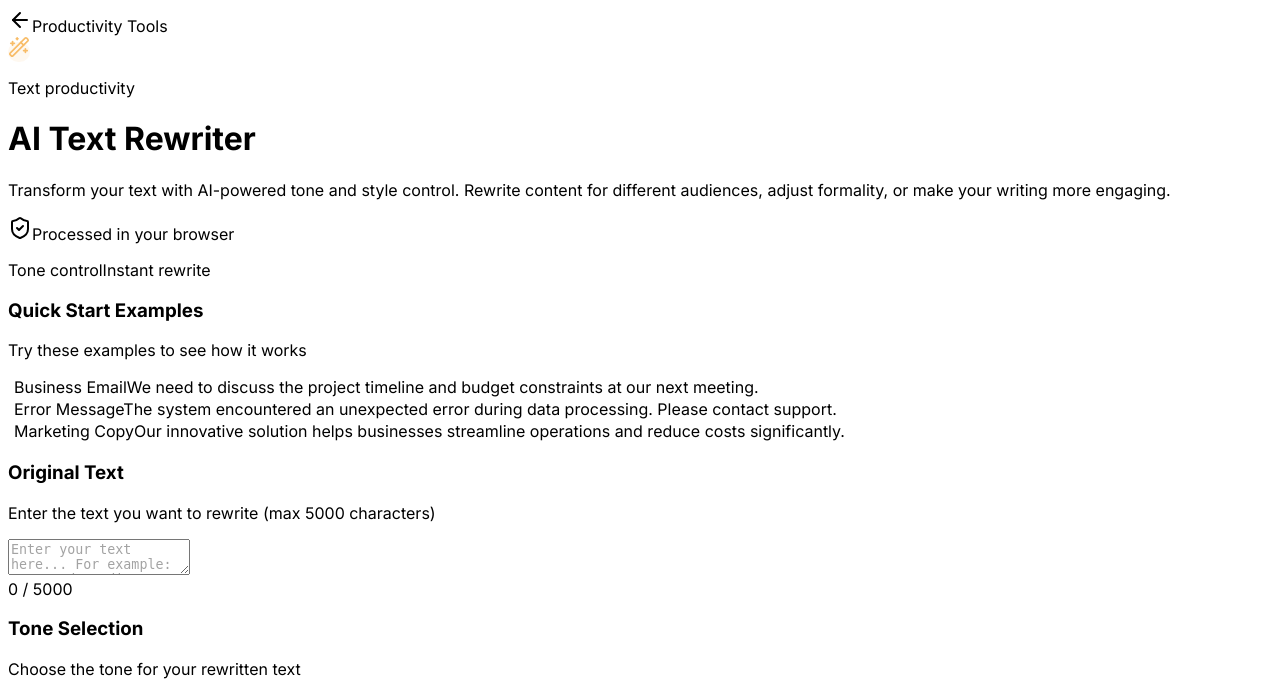
Test: AI Text Rewriter - Rewriting Tests › should display multiple variants
Replace the text in the text box with placeholder "Enter your text here" with "Test message" at (99, 557), box [8, 539, 190, 575]
(page scrolled)
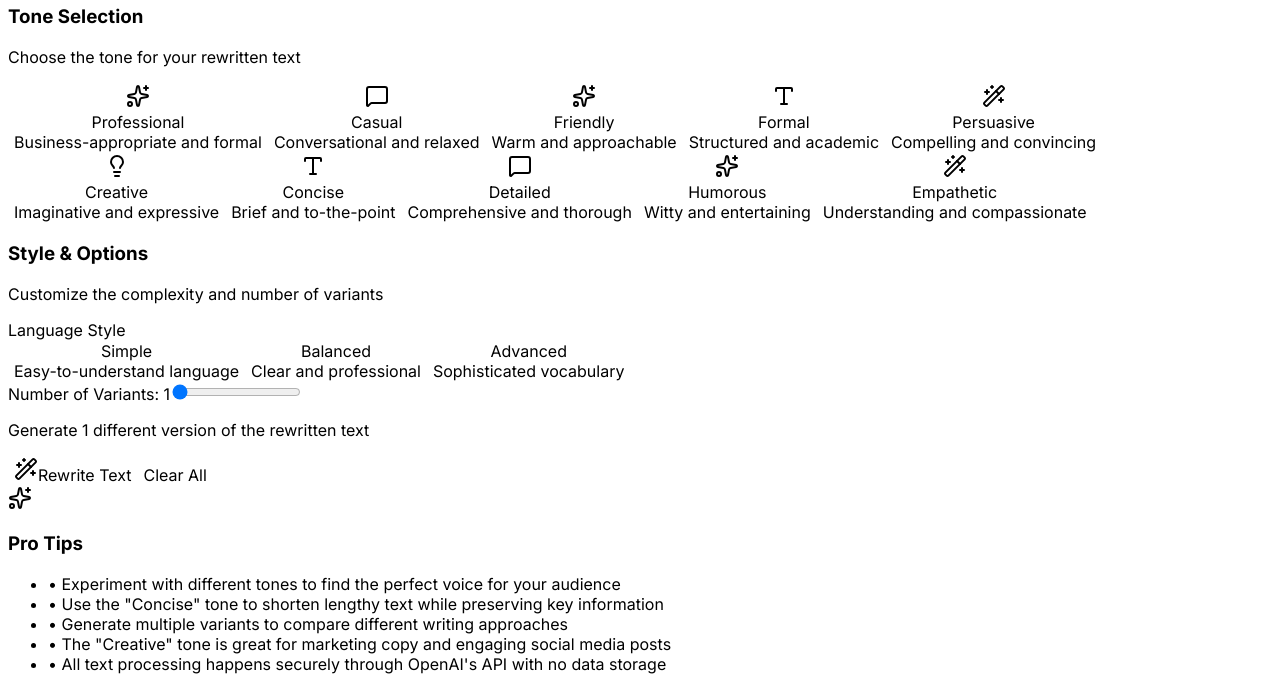
Click the button "Rewrite Text" at (73, 471), box [8, 456, 138, 486]
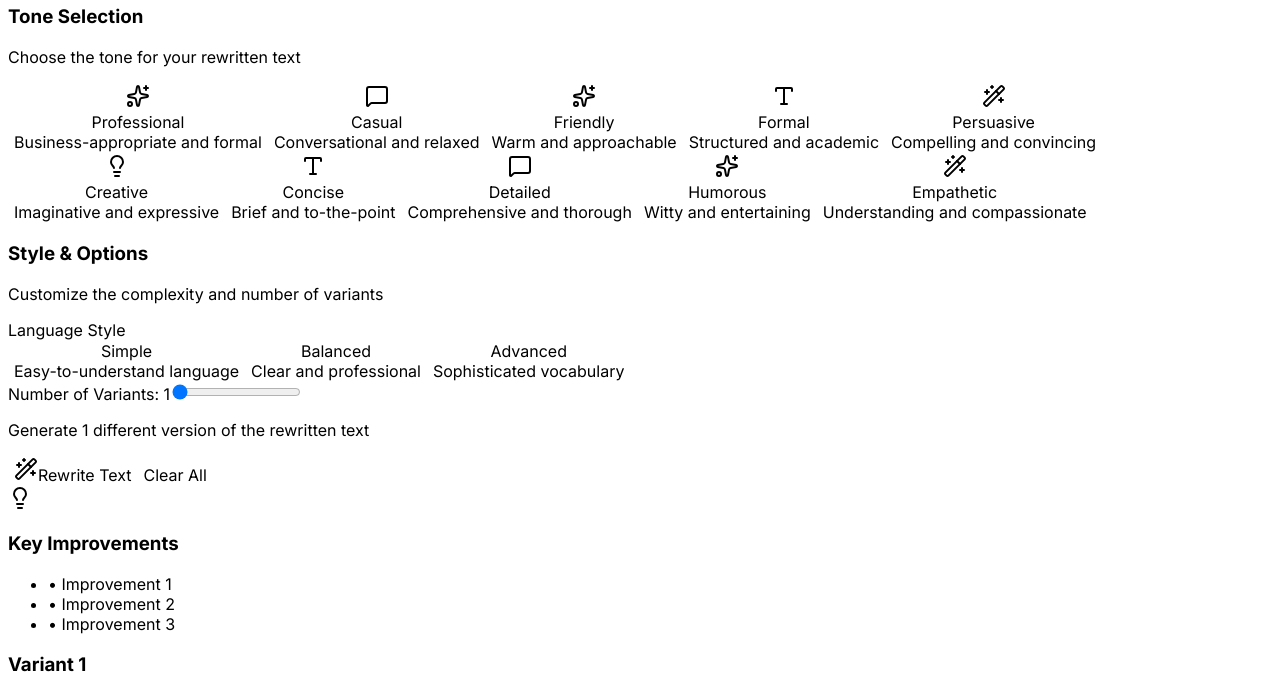
Expected: the text "Variant 1" is shown, [8, 653, 86, 676]
